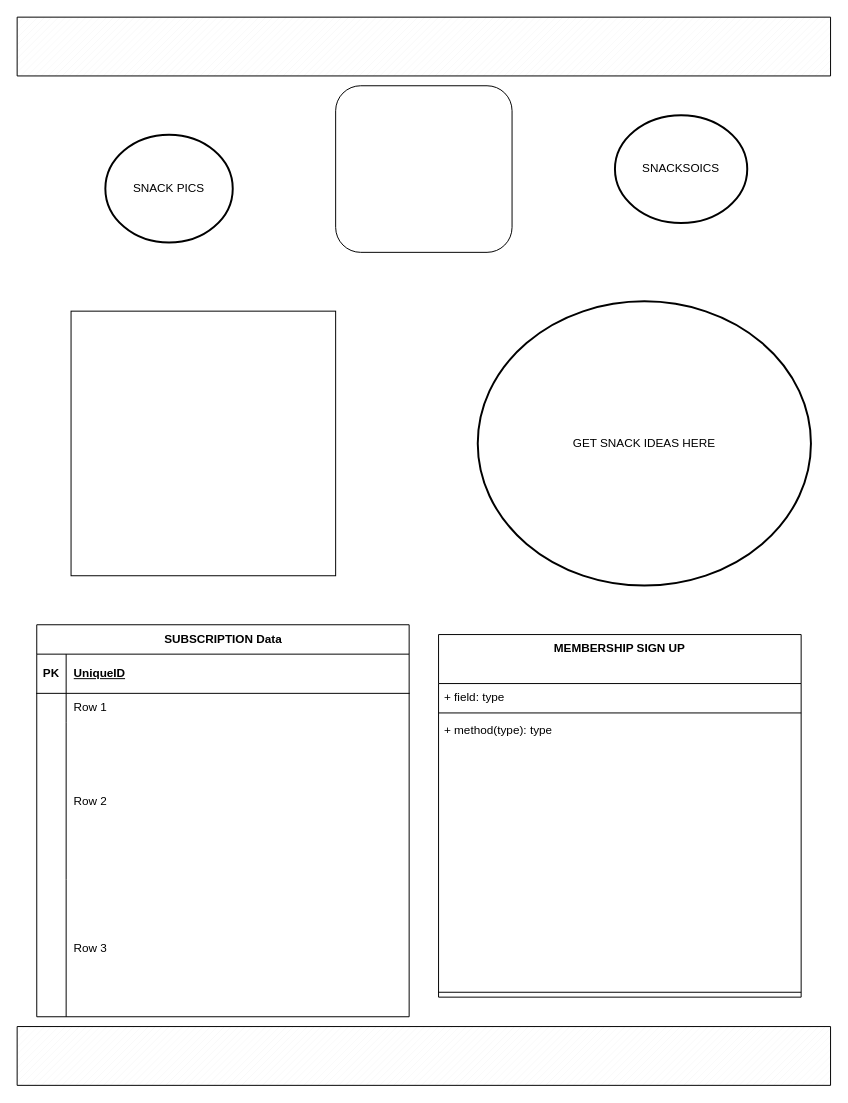
Some shapes in this 848 by 1103 pixel diagram are drawn without their labels. The shapes that lost their labels are listed below. From the top down, each one's centre as x and y in pixels, then its label:
(423,168): LOGO
(203,443): WHAT WE DO!
